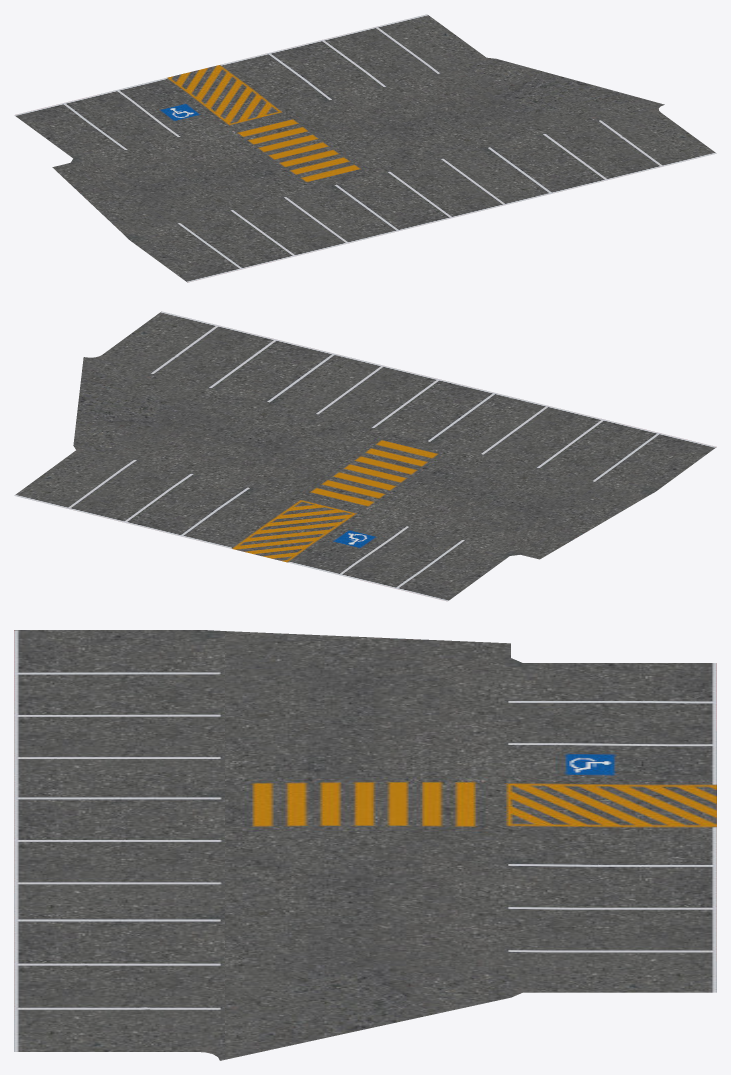
File: parking.obj
3 views of the same model, one above another, from view 1: azimuth 30°, elevation 25°; view 2: azimuth 150°, elevation 25°; view 3: azimuth 270°, elevation 25° (orthographic). The views are drawn at different scales.
Visible parts, largest first — view 1: parking:Plane_003_2Plane_003_2Plane_003RootSketchfab_modelMeshes; view 2: parking:Plane_003_2Plane_003_2Plane_003RootSketchfab_modelMeshes; view 3: parking:Plane_003_2Plane_003_2Plane_003RootSketchfab_modelMeshes.
Boxes of the visible parts, x1=… form: parking:Plane_003_2Plane_003_2Plane_003RootSketchfab_modelMeshes: x1=14, y1=14, x2=716, y2=282; parking:Plane_003_2Plane_003_2Plane_003RootSketchfab_modelMeshes: x1=14, y1=311, x2=716, y2=601; parking:Plane_003_2Plane_003_2Plane_003RootSketchfab_modelMeshes: x1=14, y1=630, x2=716, y2=1060.
Bounding box in the file's own units: 1123 × 0 × 775.
1 material, 1 textured.
